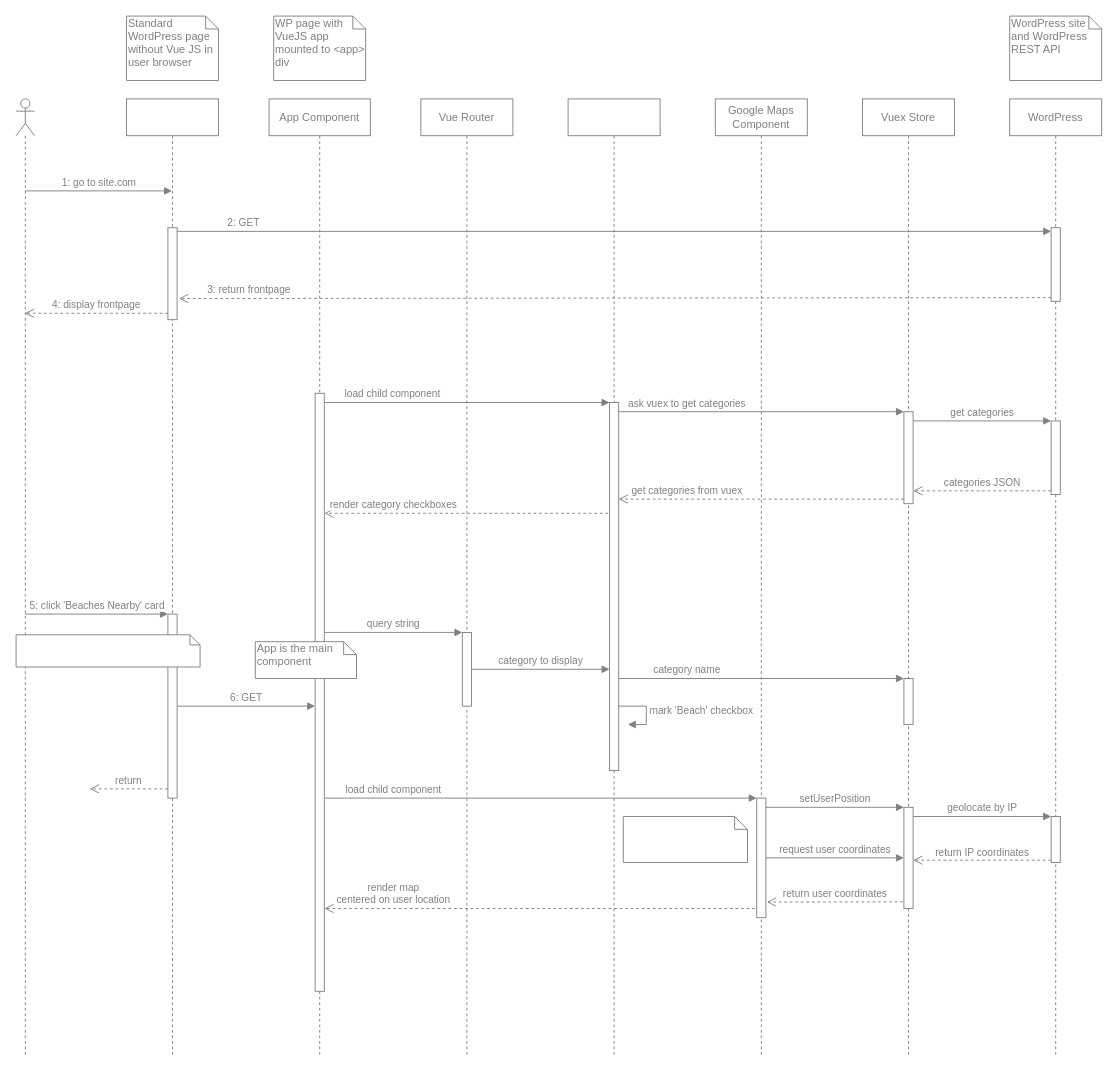
The diagram is 1118 pixels wide and 1072 high, and some of its shapes have lost their labels. Each missing label, with the box of its shape:
Browser: (126, 98, 218, 1056)
Controls Component: (567, 98, 660, 1056)
don't ask user exact location for simplicity: (622, 816, 748, 862)
site.com/map/#/?category=beach: (15, 634, 200, 667)
